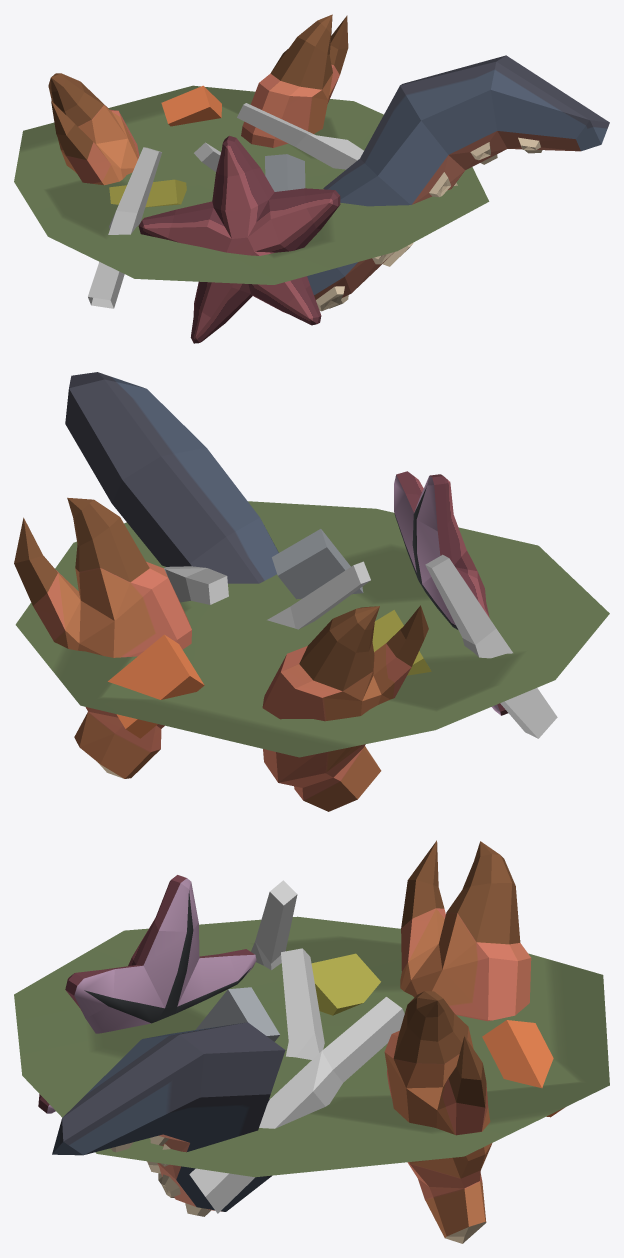
The model's file is SM_Prop_Bowl_03_Insert_01.fbx.
The picture shows the model from 3 angles, top to bottom: view 1: azimuth 30°, elevation 25°; view 2: azimuth 150°, elevation 25°; view 3: azimuth 270°, elevation 25°; orthographic projection. The views are drawn at different scales.
Visible parts, largest first — view 1: SM_Prop_Bowl_03_Insert_01; view 2: SM_Prop_Bowl_03_Insert_01; view 3: SM_Prop_Bowl_03_Insert_01.
Part boxes in pixels (x1=…): SM_Prop_Bowl_03_Insert_01: x1=14, y1=14, x2=609, y2=343; SM_Prop_Bowl_03_Insert_01: x1=14, y1=372, x2=609, y2=811; SM_Prop_Bowl_03_Insert_01: x1=14, y1=840, x2=609, y2=1243.
Bounding box in the file's own units: 32.2 × 14.18 × 26.28.
